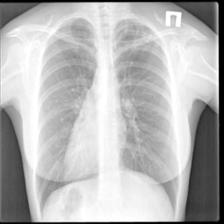tuberculosis: (31, 11, 184, 222)
